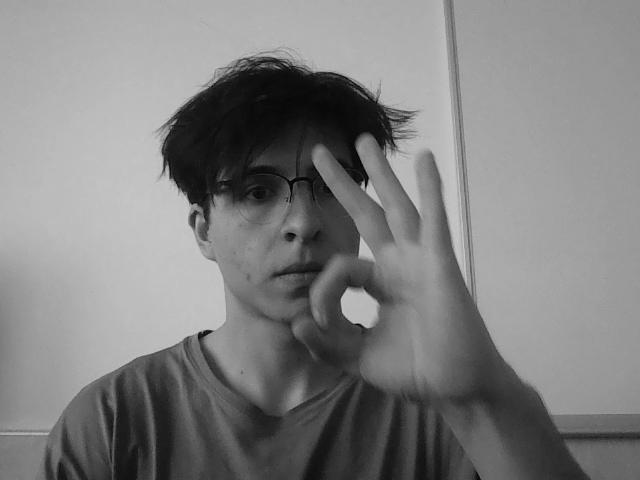OK: (281, 136, 490, 403)
